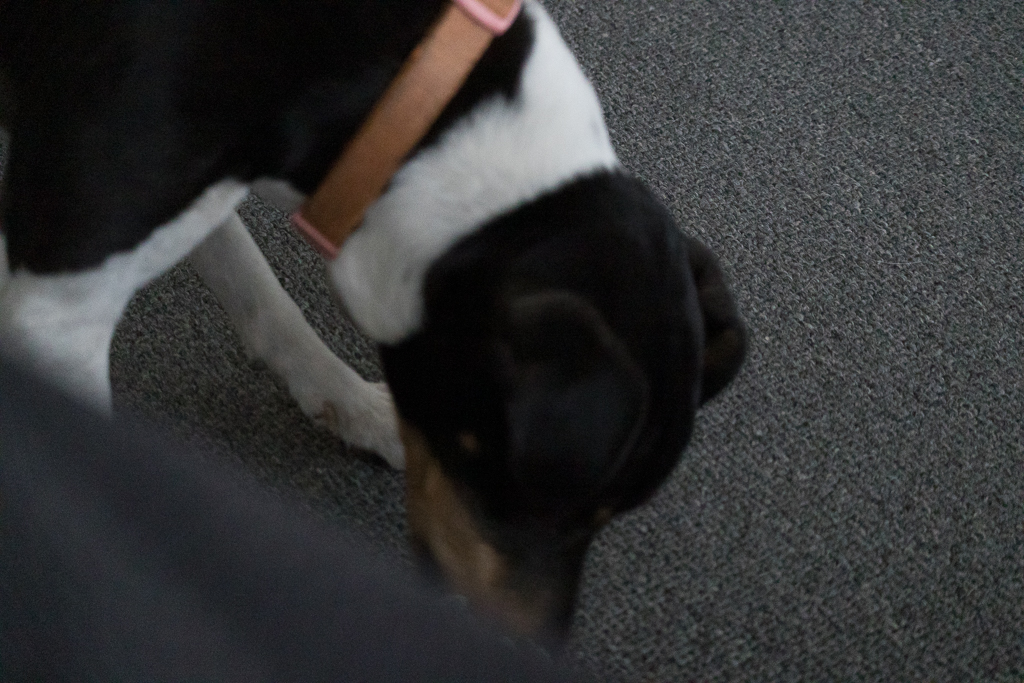Dog: (0, 0, 759, 675)
